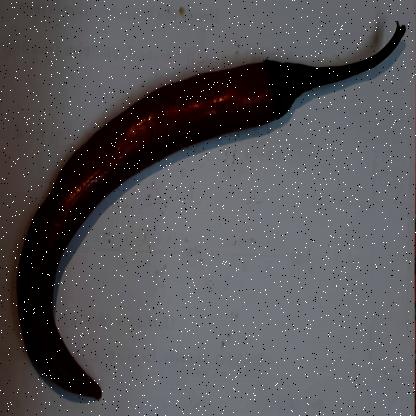chili: (13, 20, 405, 398)
